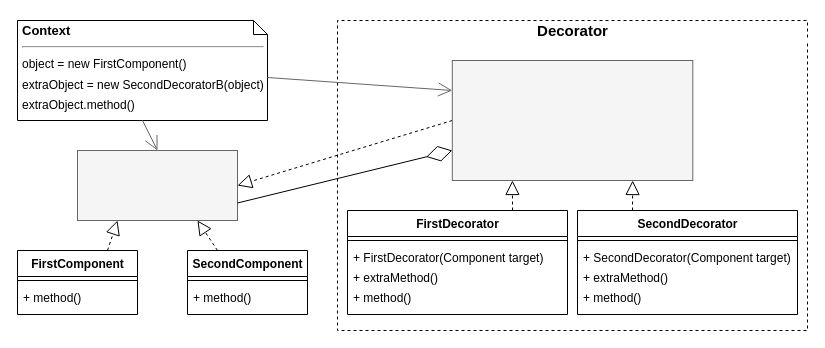
The diagram is 825 pixels wide and 348 high, and some of its shapes have lost their labels. Each missing label, with the centre of its shape:
<<Interface>> Component + method(): point 157,185
<<Interface>> ComponentDecorator # target: Component + method() + extraMethod(): point 572,120
